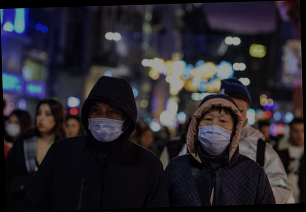with_mask: (196, 111, 236, 156), (86, 100, 125, 143), (4, 117, 21, 137)
without_mask: (33, 107, 54, 135), (289, 127, 304, 148)
